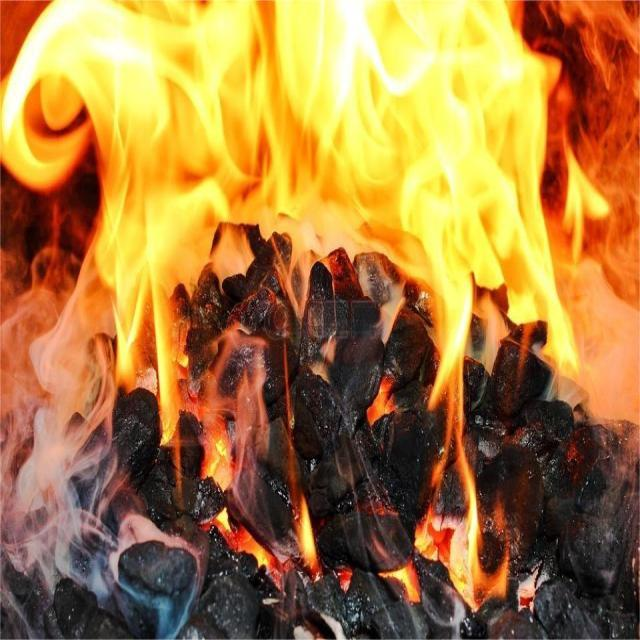Fire: (0, 0, 610, 607)
